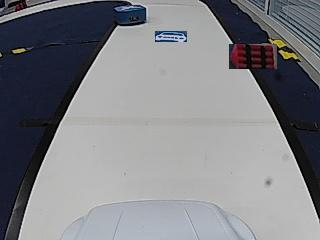prop: (114, 6, 146, 26)
